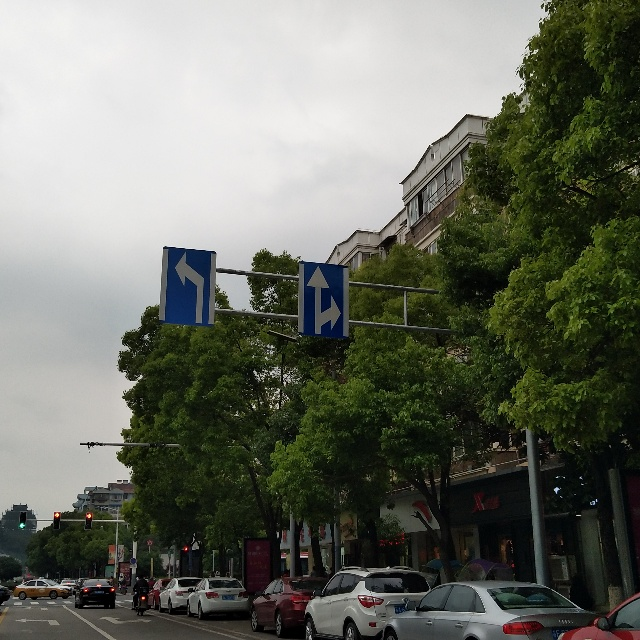left: (159, 245, 216, 328)
